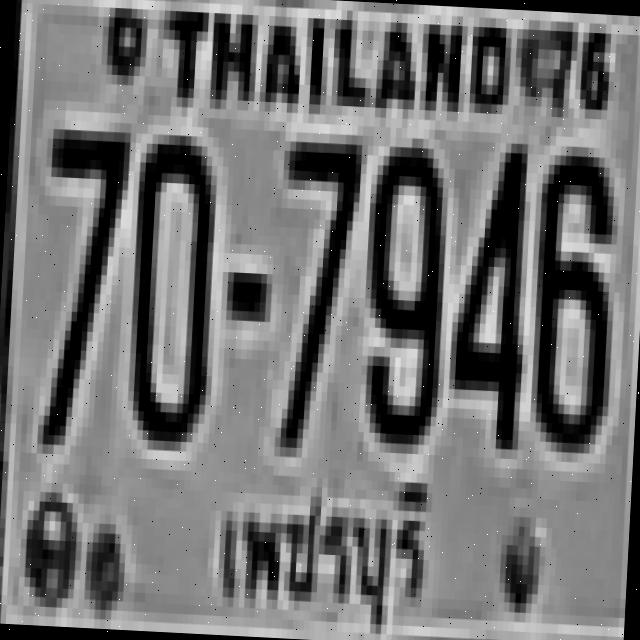0: (120, 128, 222, 452)
4: (446, 132, 535, 450)
6: (523, 144, 623, 456)
7: (32, 124, 125, 443), (269, 132, 357, 450)
9: (358, 141, 450, 449)
Phetchaburi: (201, 477, 437, 640)
